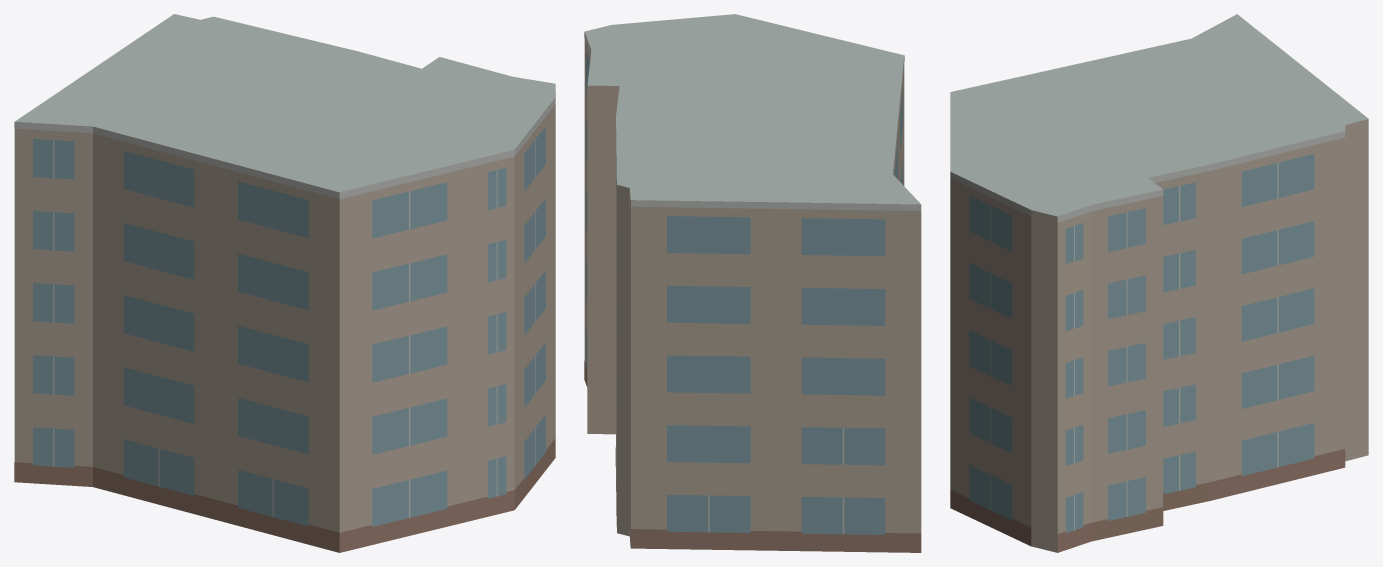
File: survey-upis-32487847.glb
3 renders of one model, left to right at view 1: azimuth 30°, elevation 25°; view 2: azimuth 150°, elevation 25°; view 3: azimuth 270°, elevation 25°, orthographic. The views are drawn at different scales.
Visible parts, largest first — view 1: survey-upis-32487847.tmp; view 2: survey-upis-32487847.tmp; view 3: survey-upis-32487847.tmp.
Boxes of the visible parts, x1,y1,x2,y2 form: survey-upis-32487847.tmp: (14,14,555,552); survey-upis-32487847.tmp: (584,14,921,552); survey-upis-32487847.tmp: (950,14,1368,552).
Bounding box in the file's own units: 16.54 × 12.8 × 14.45.
